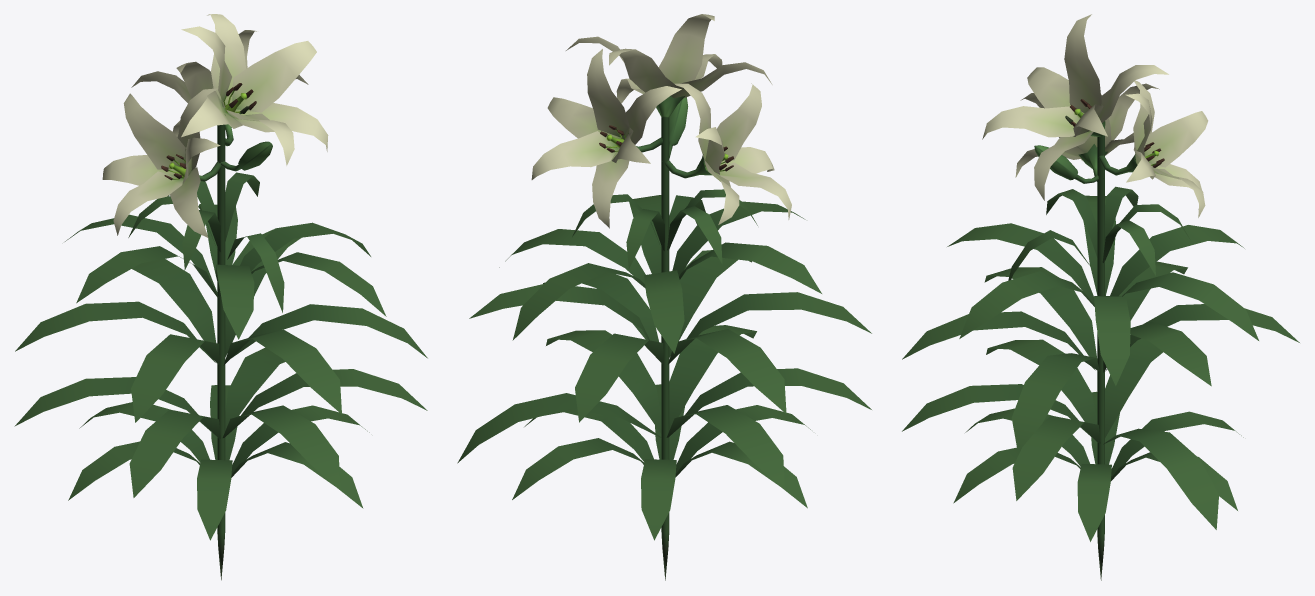
The model's file is plants-flowers-white-lily_v2.glb.
The picture shows the model from 3 angles, left to right: view 1: azimuth 30°, elevation 25°; view 2: azimuth 150°, elevation 25°; view 3: azimuth 270°, elevation 25°; orthographic projection. The views are drawn at different scales.
Parts seen in each view (by area): view 1: White Lily_v2; view 2: White Lily_v2; view 3: White Lily_v2.
Boxes of the visible parts, bbox=[...] form: White Lily_v2: bbox=[14, 14, 427, 580]; White Lily_v2: bbox=[457, 14, 871, 580]; White Lily_v2: bbox=[902, 14, 1299, 580].
Bounding box in the file's own units: 0.5439 × 0.9 × 0.5941.
